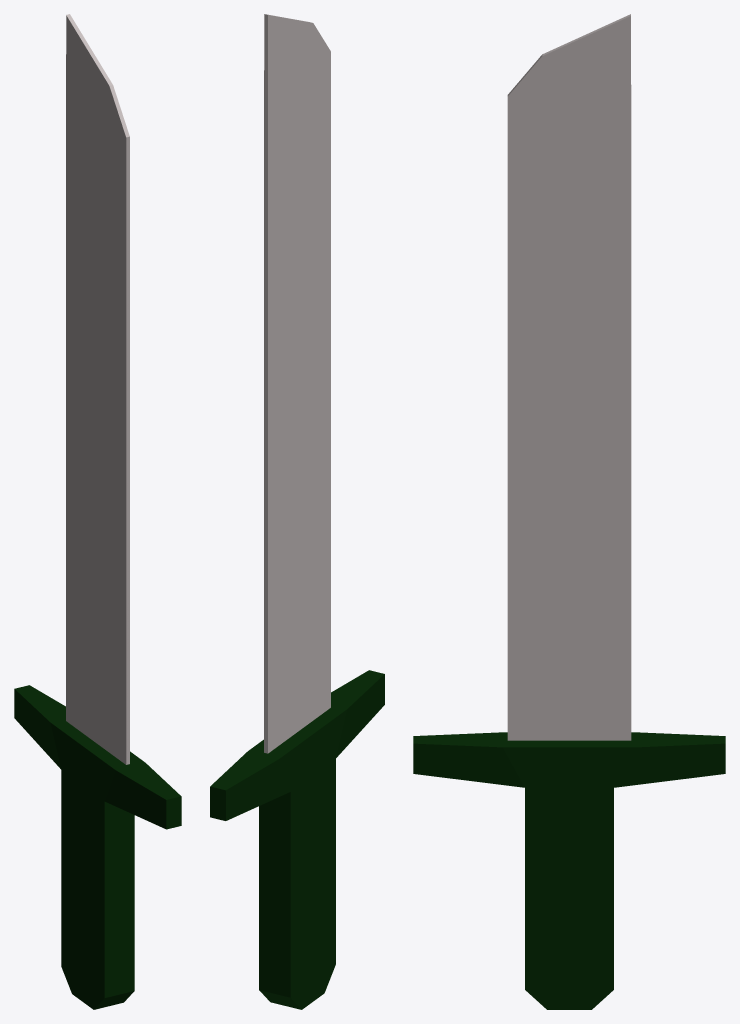
Rendered from Machete 1.fbx.
3 renders of one model, left to right at view 1: azimuth 30°, elevation 25°; view 2: azimuth 150°, elevation 25°; view 3: azimuth 270°, elevation 25°, orthographic. The views are drawn at different scales.
Visible parts, largest first — view 1: Machete; view 2: Machete; view 3: Machete.
Part boxes in pixels (bbox=[...]): Machete: bbox=[14, 14, 181, 1009]; Machete: bbox=[210, 14, 384, 1009]; Machete: bbox=[413, 14, 725, 1009].
Size of the model in its own units: 2.88 by 88 by 25.2.
